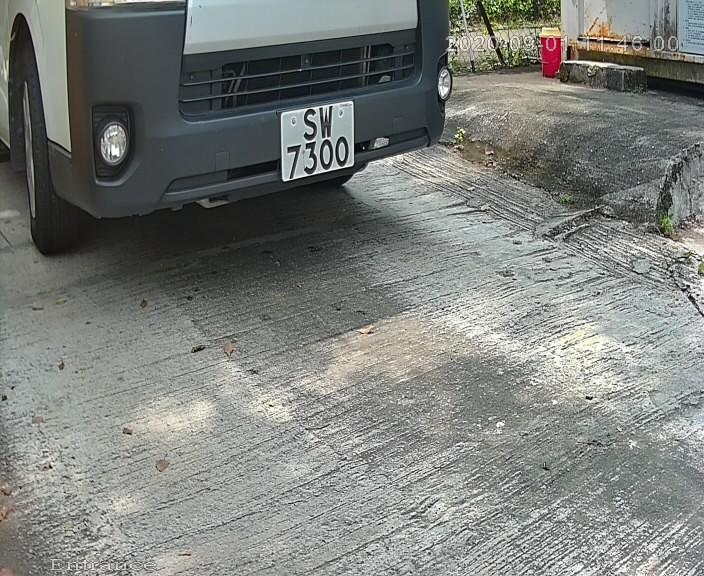License Plate: (271, 91, 365, 193)
